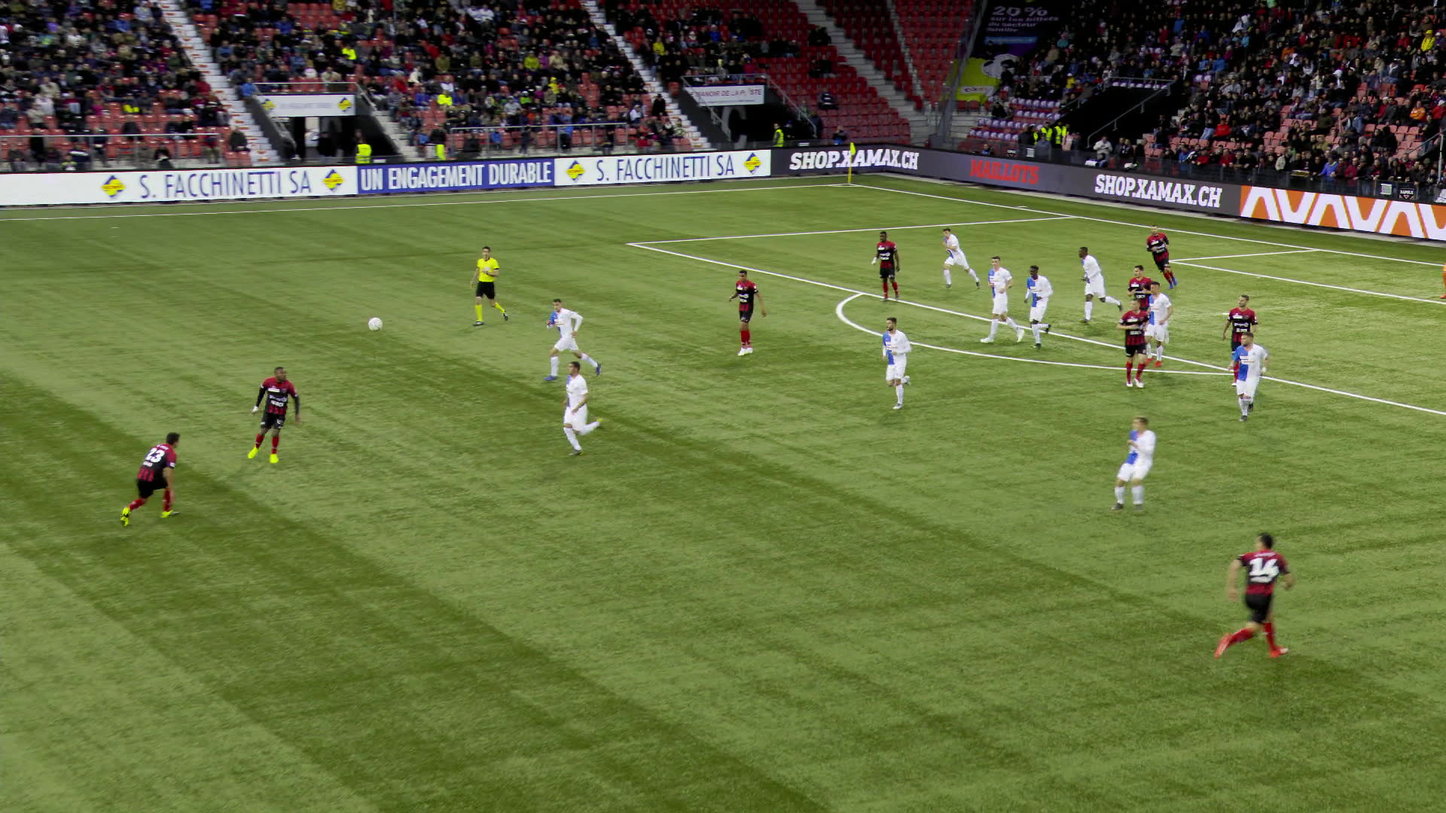ball: (368, 316, 384, 332)
player: (1213, 531, 1292, 660), (119, 428, 182, 530), (246, 365, 300, 464), (1108, 413, 1158, 515), (542, 300, 602, 383), (561, 359, 609, 455), (1224, 330, 1268, 425), (978, 256, 1025, 344), (1075, 245, 1124, 324), (725, 267, 766, 357), (1220, 293, 1258, 388), (880, 314, 911, 413), (1115, 297, 1145, 391), (1021, 263, 1053, 350), (940, 227, 981, 292), (871, 229, 901, 306), (1145, 282, 1172, 367), (1144, 225, 1179, 289), (1127, 265, 1155, 326), (1435, 254, 1445, 285)
referee: (467, 244, 510, 327)
